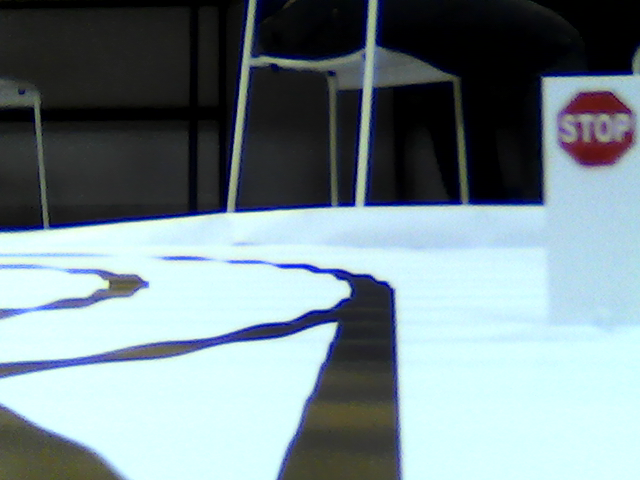Stop: (558, 91, 633, 164)
